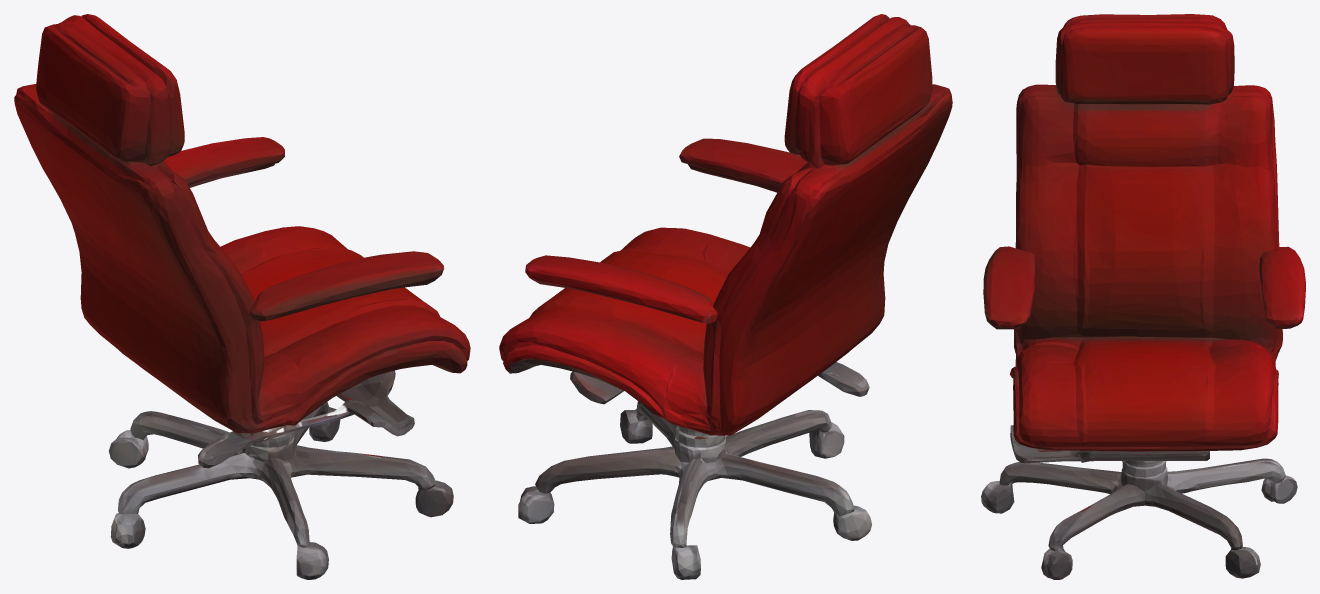
File: computer_chair_42.obj
3 renders of one model, left to right at view 1: azimuth 30°, elevation 25°; view 2: azimuth 150°, elevation 25°; view 3: azimuth 270°, elevation 25°, orthographic. The views are drawn at different scales.
Bounding box in the file's own units: 0.8308 × 1.2 × 0.8024.
1 material, 1 textured.
